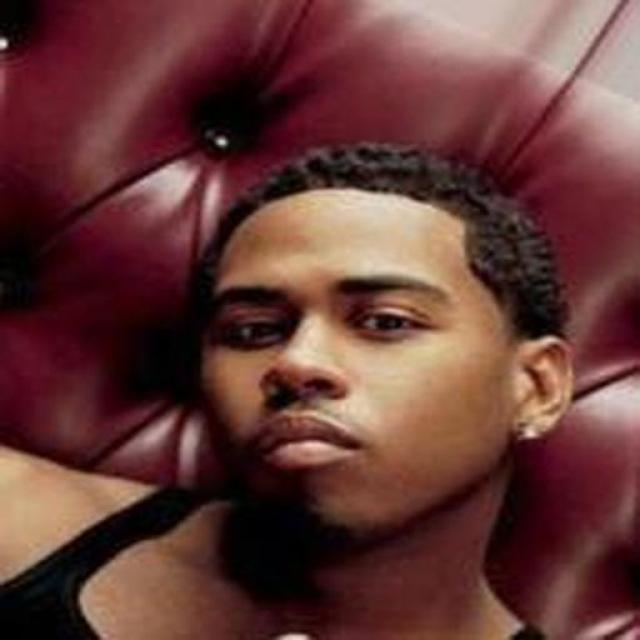bareface: (215, 172, 560, 520)
